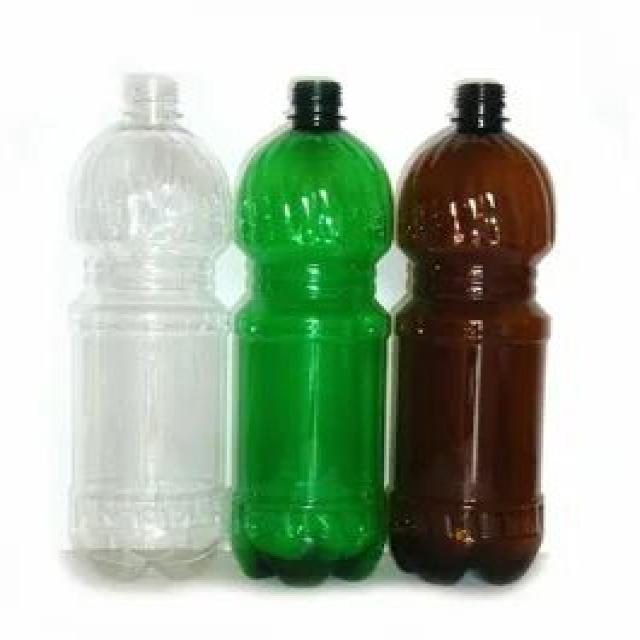brown: (396, 80, 556, 587)
green: (235, 81, 392, 586)
